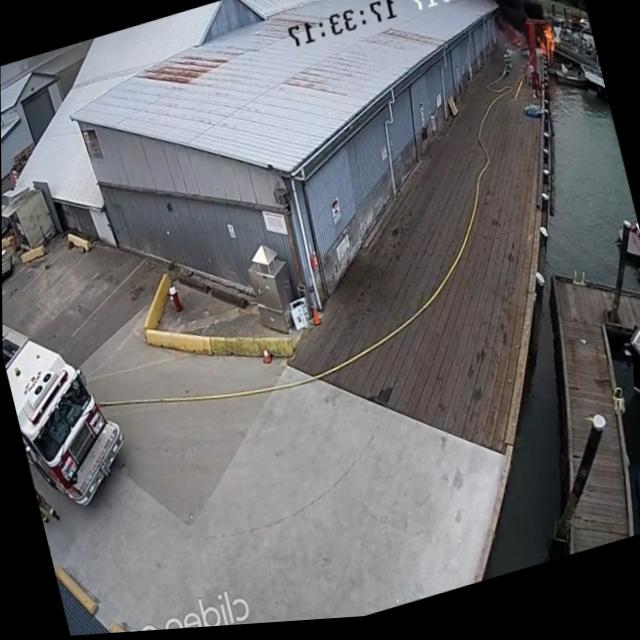fire: (531, 27, 563, 70), (381, 0, 453, 10)
